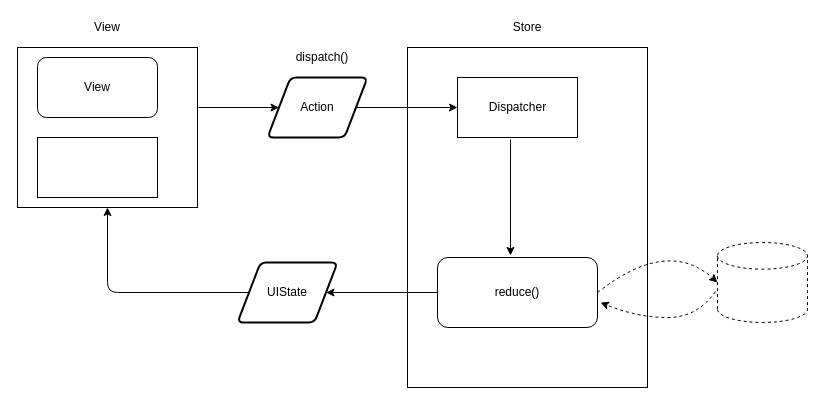
The diagram is 825 pixels wide and 405 high, and some of its shapes have lost their labels. The box of each missing label's shape, as (x1, y1, x2, y2) in pixels:
Repository: (716, 242, 808, 322)
ViewModel: (36, 136, 158, 198)
